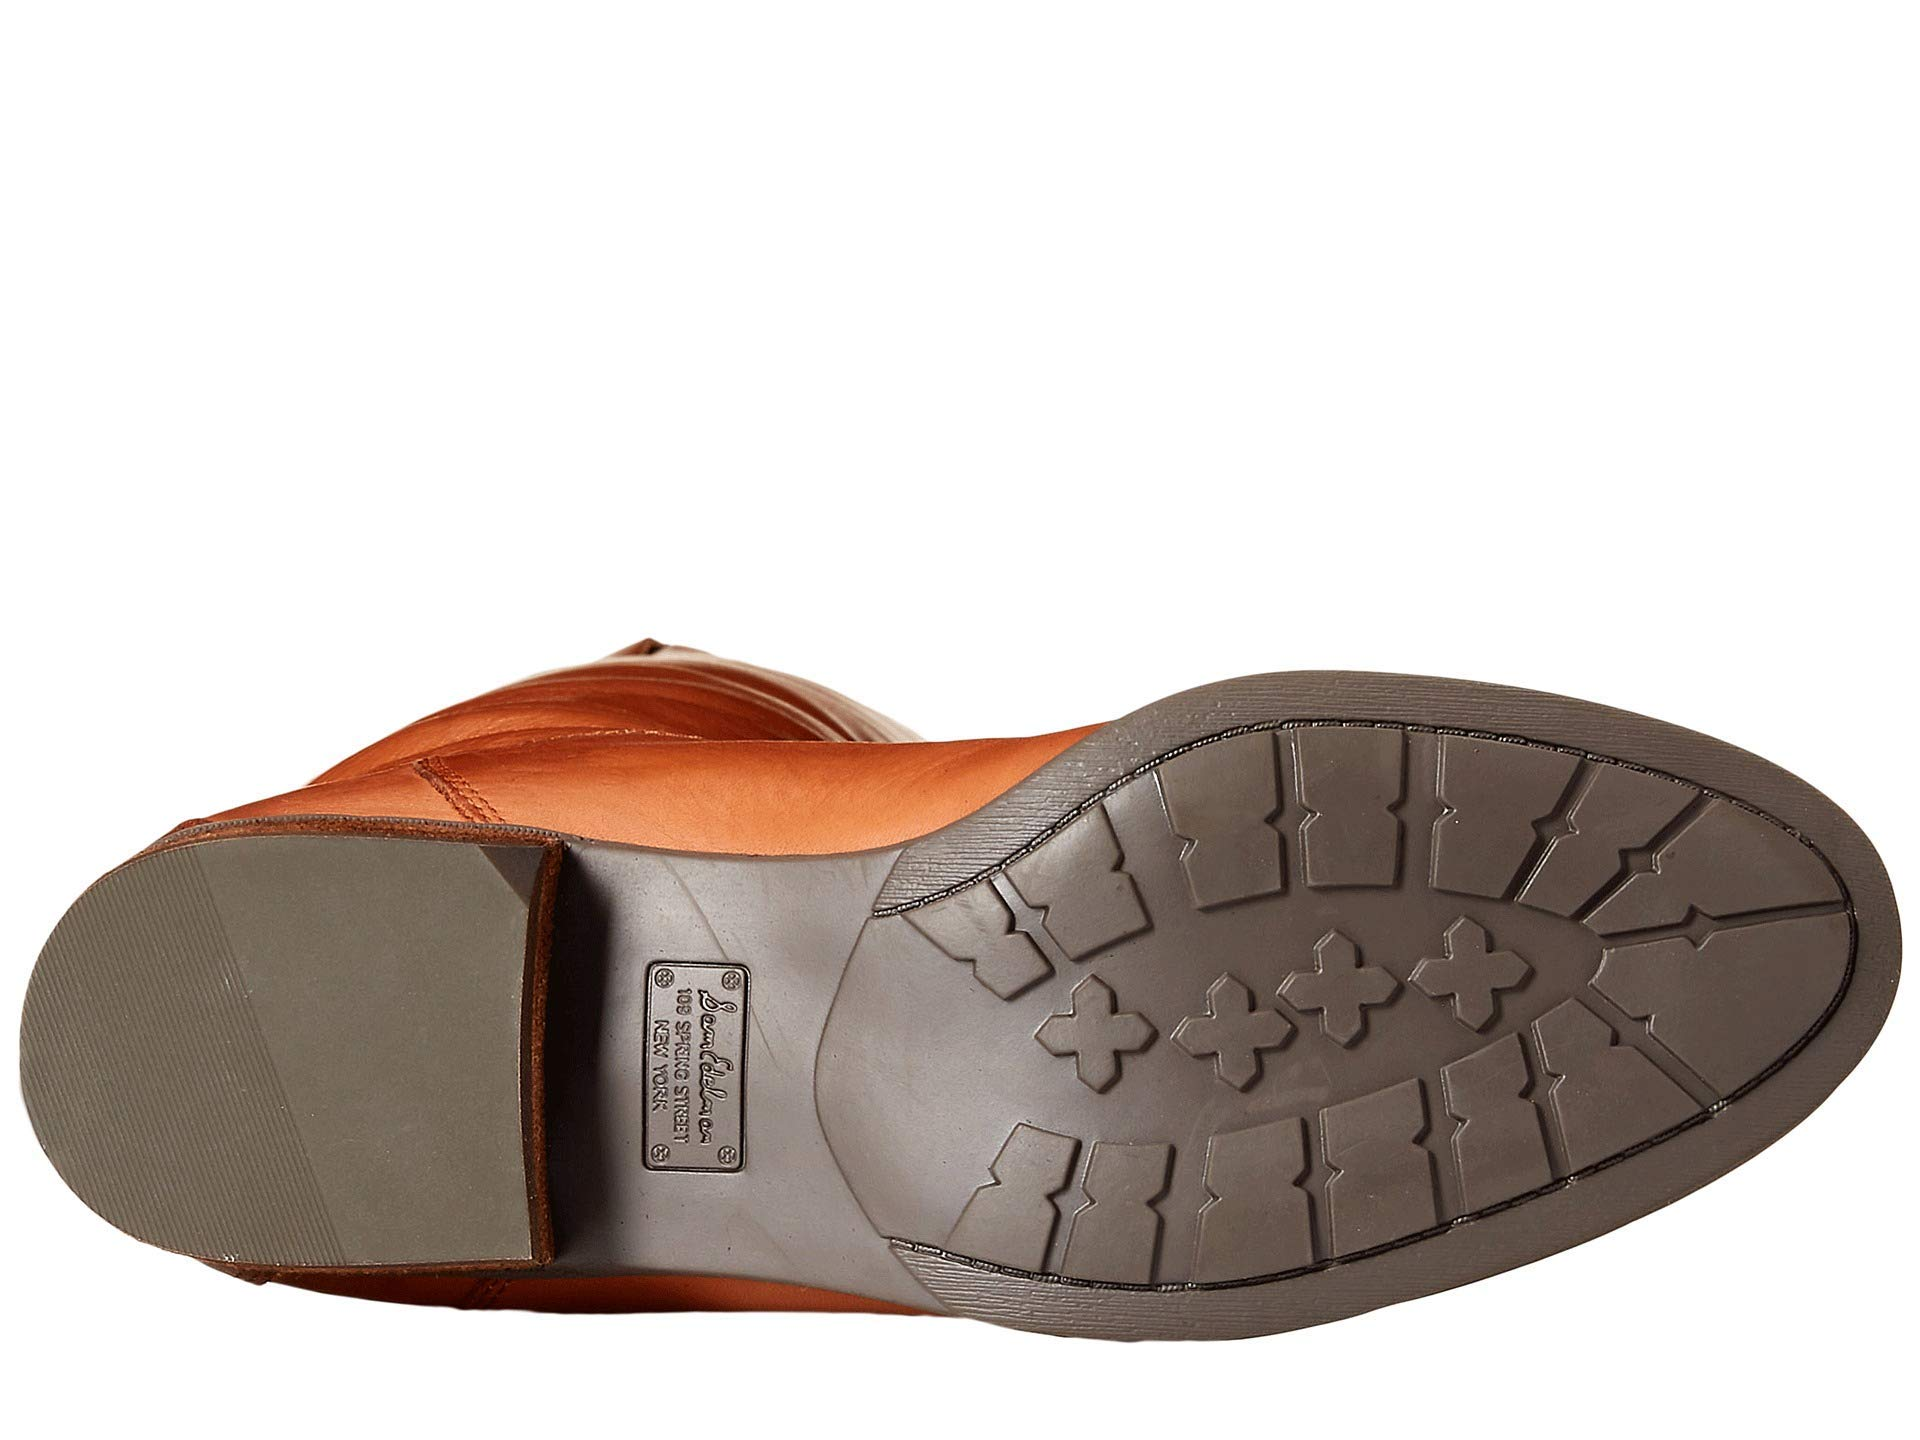bowtie: (1571, 767, 1873, 1122), (1132, 684, 1420, 933), (1134, 735, 1305, 906), (1182, 1110, 1327, 1293), (1073, 1121, 1181, 1317)
line: (88, 900, 441, 1236)
star: (1046, 957, 1305, 1113), (1385, 892, 1541, 1042), (1022, 961, 1170, 1101), (1170, 942, 1299, 1100)
